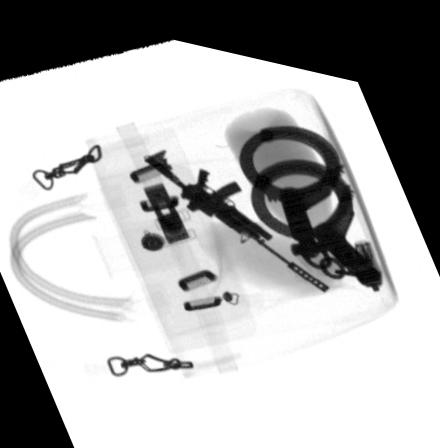Gun: (140, 139, 333, 280)
HandCuffs: (236, 112, 388, 274)
